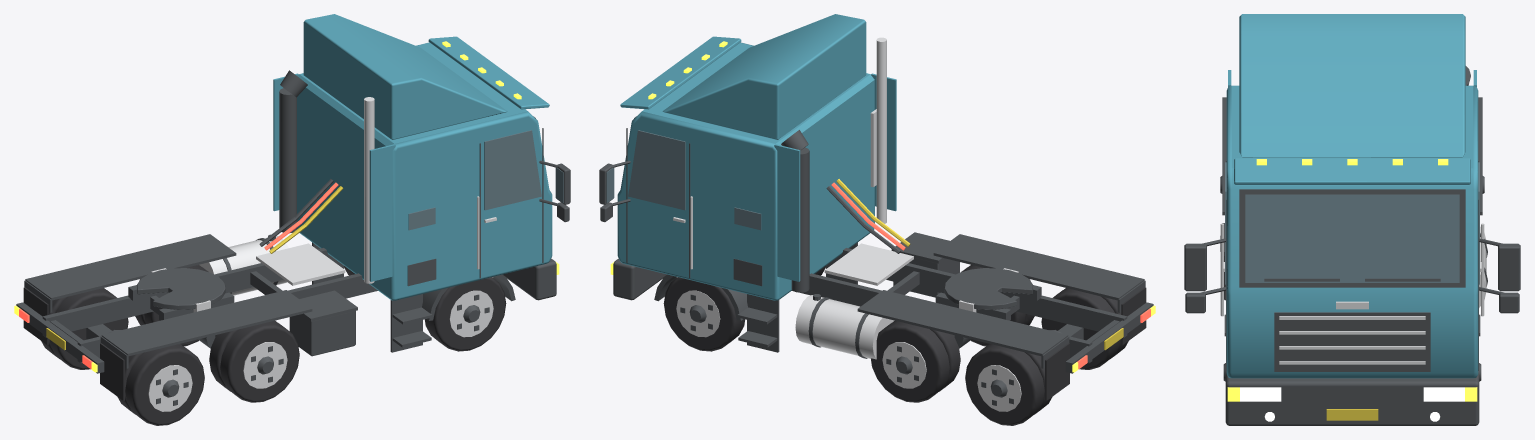
File: tractor.glb
The picture shows the model from 3 angles, left to right: view 1: azimuth 30°, elevation 25°; view 2: azimuth 150°, elevation 25°; view 3: azimuth 270°, elevation 25°; orthographic projection. The views are drawn at different scales.
Parts seen in each view (by area): view 1: root__livery, root__chassis, root__livery.001, root__chrome, root__glass, root__livery.002, wheel_r0_r__tyre, wheel_r1_r__tyre, root__chassis.003, root__chassis.002, wheel_f_r__tyre, opt_visor__livery (+8 smaller); view 2: root__livery, root__chassis, root__livery.001, root__chrome, root__livery.002, root__glass, wheel_r0_l__tyre, wheel_r1_l__tyre, root__chassis.003, wheel_f_l__tyre, opt_visor__livery, wheel_r1_r__tyre (+8 smaller); view 3: root__livery.001, root__livery, root__glass, root__chassis, root__chassis.001, opt_visor__livery, root__chrome, root__chassis.002, root__lamp_white, root__hazard_yellow, root__lamp_amber, opt_lamps__lamp_amber.
Boxes of the visible parts, bbox=[...] form: root__livery: bbox=[297, 42, 552, 300]; root__chassis: bbox=[16, 70, 559, 373]; root__livery.001: bbox=[303, 14, 507, 140]; root__chrome: bbox=[151, 97, 496, 312]; root__glass: bbox=[408, 130, 563, 230]; root__livery.002: bbox=[273, 73, 395, 281]; wheel_r0_r__tyre: bbox=[209, 320, 299, 402]; wheel_r1_r__tyre: bbox=[117, 344, 204, 425]; root__chassis.003: bbox=[137, 268, 225, 309]; root__chassis.002: bbox=[289, 163, 570, 356]; wheel_f_r__tyre: bbox=[424, 277, 506, 351]; opt_visor__livery: bbox=[428, 36, 549, 109]; root__livery: bbox=[617, 42, 874, 300]; root__chassis: bbox=[610, 117, 1153, 373]; root__livery.001: bbox=[662, 14, 866, 140]; root__chrome: bbox=[673, 37, 1018, 359]; root__livery.002: bbox=[774, 73, 896, 281]; root__glass: bbox=[606, 130, 761, 230]; wheel_r0_l__tyre: bbox=[871, 320, 960, 402]; wheel_r1_l__tyre: bbox=[965, 344, 1052, 425]; root__chassis.003: bbox=[944, 268, 1032, 309]; wheel_f_l__tyre: bbox=[663, 277, 745, 351]; opt_visor__livery: bbox=[620, 36, 741, 109]; wheel_r1_r__tyre: bbox=[1041, 288, 1128, 369]; root__livery.001: bbox=[1239, 14, 1465, 157]; root__livery: bbox=[1226, 85, 1478, 378]; root__glass: bbox=[1225, 162, 1479, 284]; root__chassis: bbox=[1201, 66, 1503, 371]; root__chassis.001: bbox=[1225, 373, 1479, 425]; opt_visor__livery: bbox=[1234, 158, 1470, 185]; root__chrome: bbox=[1220, 223, 1486, 364]; root__chassis.002: bbox=[1184, 243, 1520, 313]; root__lamp_white: bbox=[1240, 387, 1464, 421]; root__hazard_yellow: bbox=[1326, 409, 1378, 420]; root__lamp_amber: bbox=[1227, 387, 1477, 401]; opt_lamps__lamp_amber: bbox=[1256, 159, 1448, 165].
Size of the model in its own units: 6.48 by 3.86 by 3.26.
